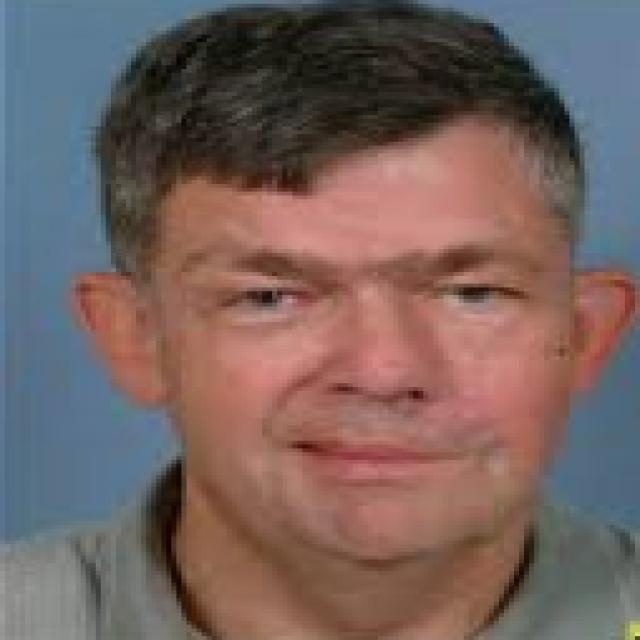stroke_face: (82, 18, 628, 559)
